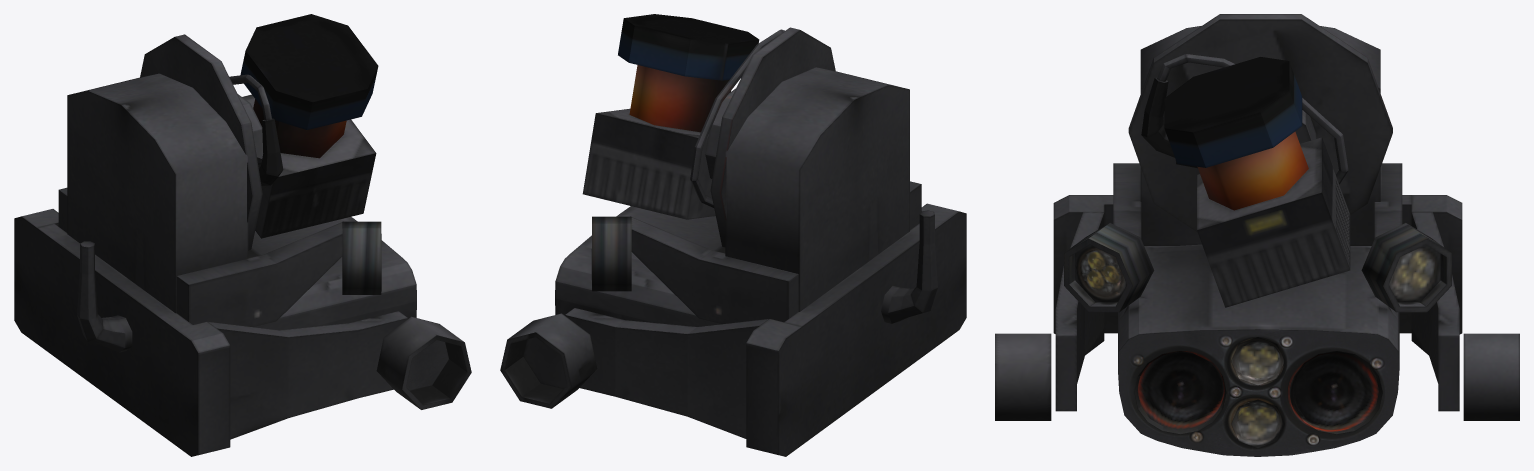
Rendered from head.dae.
3 renders of one model, left to right at view 1: azimuth 30°, elevation 25°; view 2: azimuth 150°, elevation 25°; view 3: azimuth 270°, elevation 25°, orthographic. The views are drawn at different scales.
Parts seen in each view (by area): view 1: head; view 2: head; view 3: head.
Part boxes in pixels (left/top/right/bottom): head: left=14, top=14, right=471, bottom=456; head: left=500, top=14, right=966, bottom=456; head: left=995, top=14, right=1519, bottom=456.
Bounding box in the file's own units: 0.1679 × 0.235 × 0.1765.
